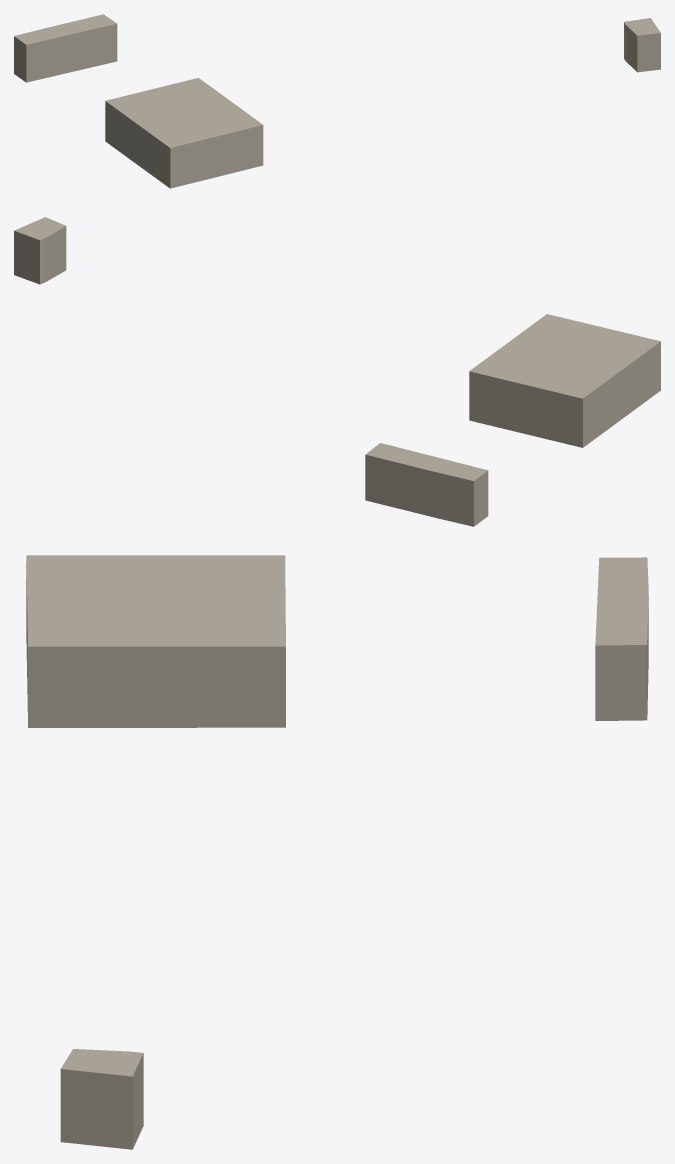
File: bormla_65_29_collision.glb
3 views of the same model, one above another, from view 1: azimuth 30°, elevation 25°; view 2: azimuth 150°, elevation 25°; view 3: azimuth 270°, elevation 25° (orthographic). The views are drawn at different scales.
Visible parts, largest first — view 1: geometry_0; view 2: geometry_0; view 3: geometry_0.
Part boxes in pixels (x1,y1,x2,y2): geometry_0: [14, 14, 660, 188]; geometry_0: [14, 217, 660, 526]; geometry_0: [26, 555, 648, 1149].
Size of the model in its own units: 152 by 14.24 by 80.85.
